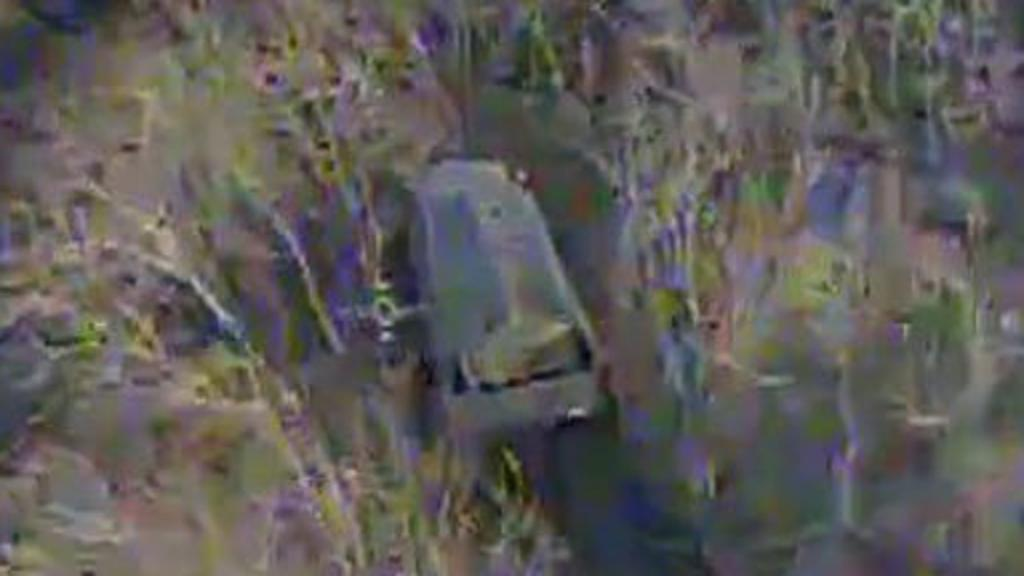TRUCK: (396, 149, 602, 445)
